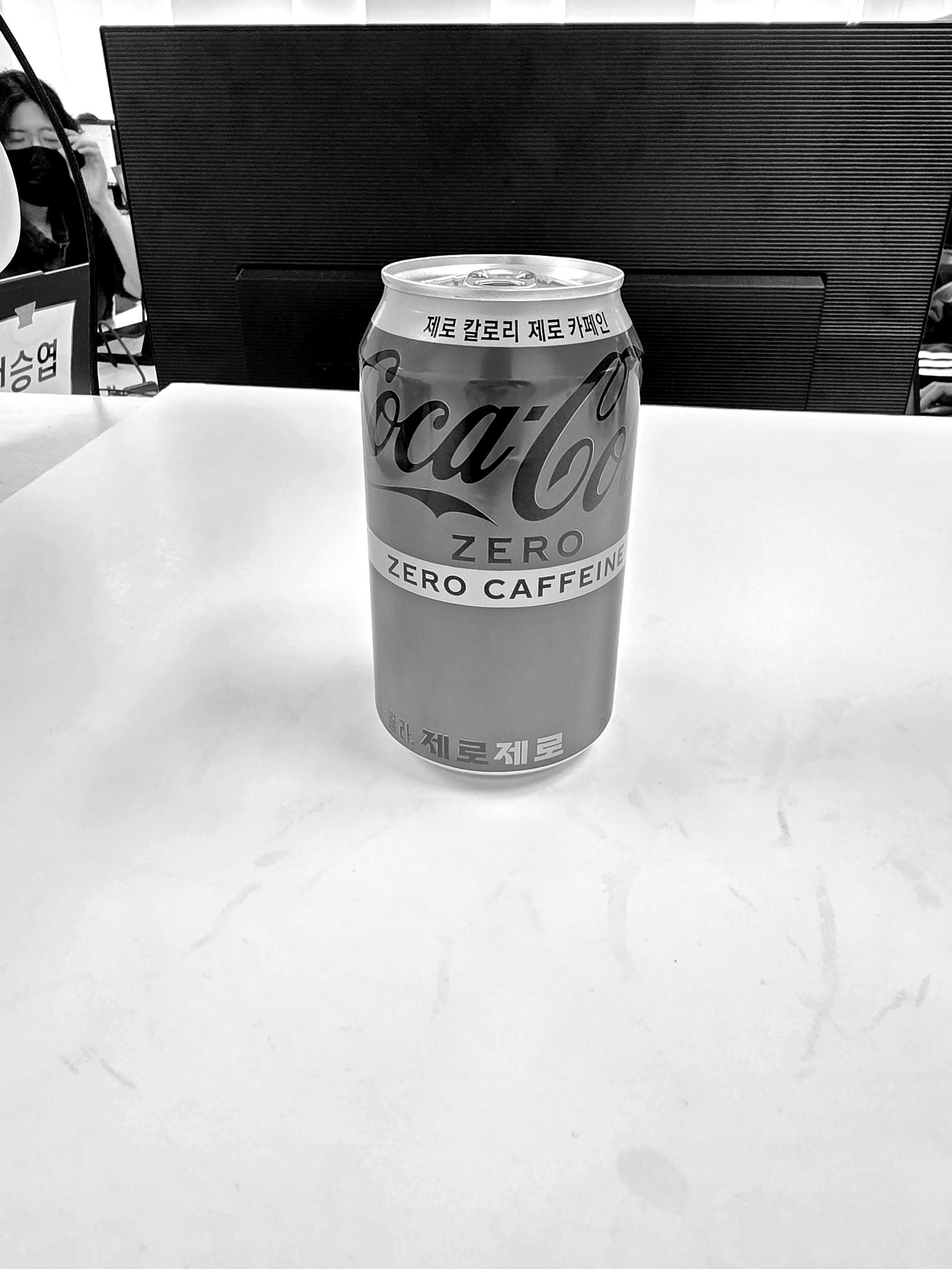can_coke_decaf: (360, 253, 643, 777)
